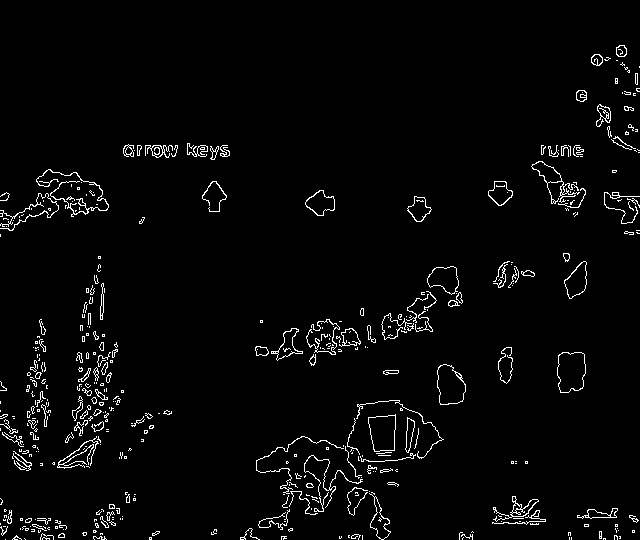rune_box: (151, 154, 566, 257)
